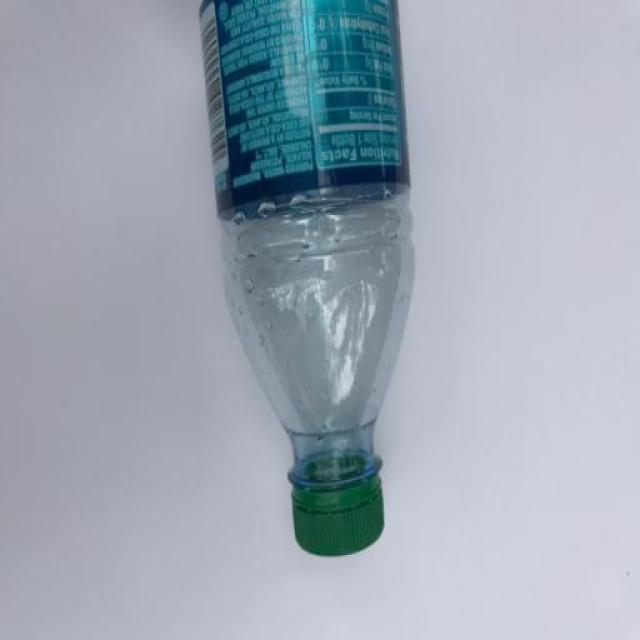Plastic: (196, 0, 416, 557)
